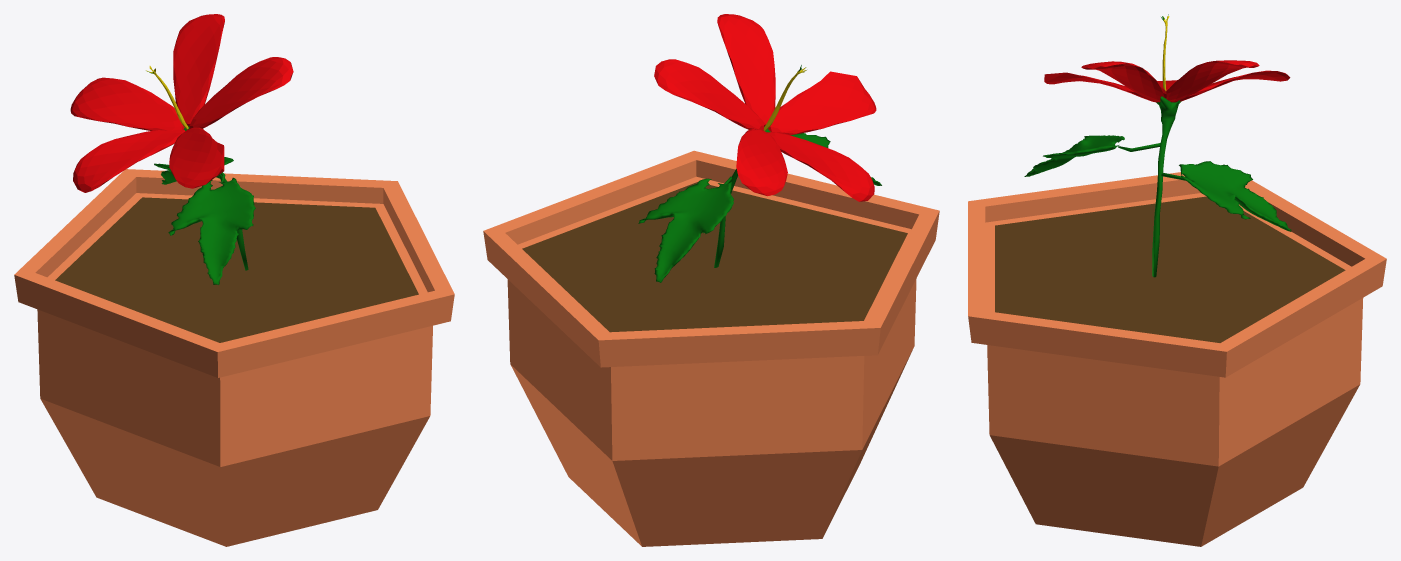
Rendered from San juaquin.fbx.
The picture shows the model from 3 angles, left to right: view 1: azimuth 30°, elevation 25°; view 2: azimuth 150°, elevation 25°; view 3: azimuth 270°, elevation 25°; orthographic projection. The views are drawn at different scales.
Parts seen in each view (by area): view 1: Dirt.004; view 2: Dirt.004; view 3: Dirt.004.
Part boxes in pixels (x1=…): Dirt.004: x1=14, y1=14, x2=454, y2=546; Dirt.004: x1=483, y1=14, x2=939, y2=546; Dirt.004: x1=968, y1=14, x2=1386, y2=546.
Bounding box in the file's own units: 73.01 × 79.42 × 69.44.
